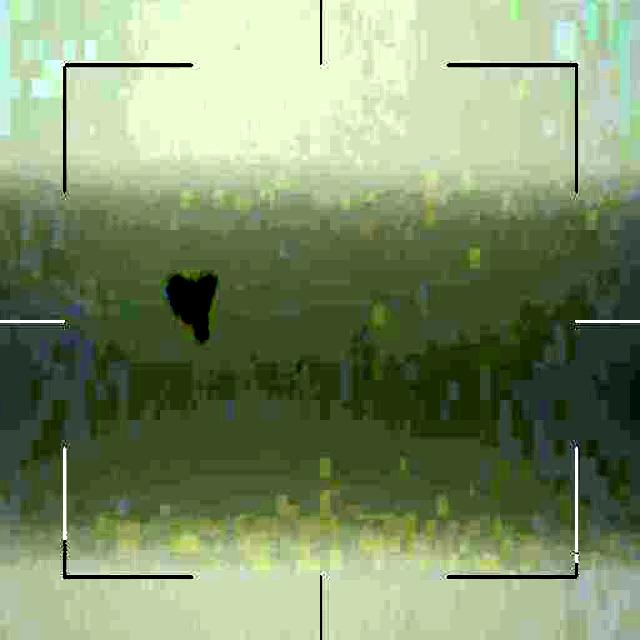bird: (162, 274, 222, 345)
